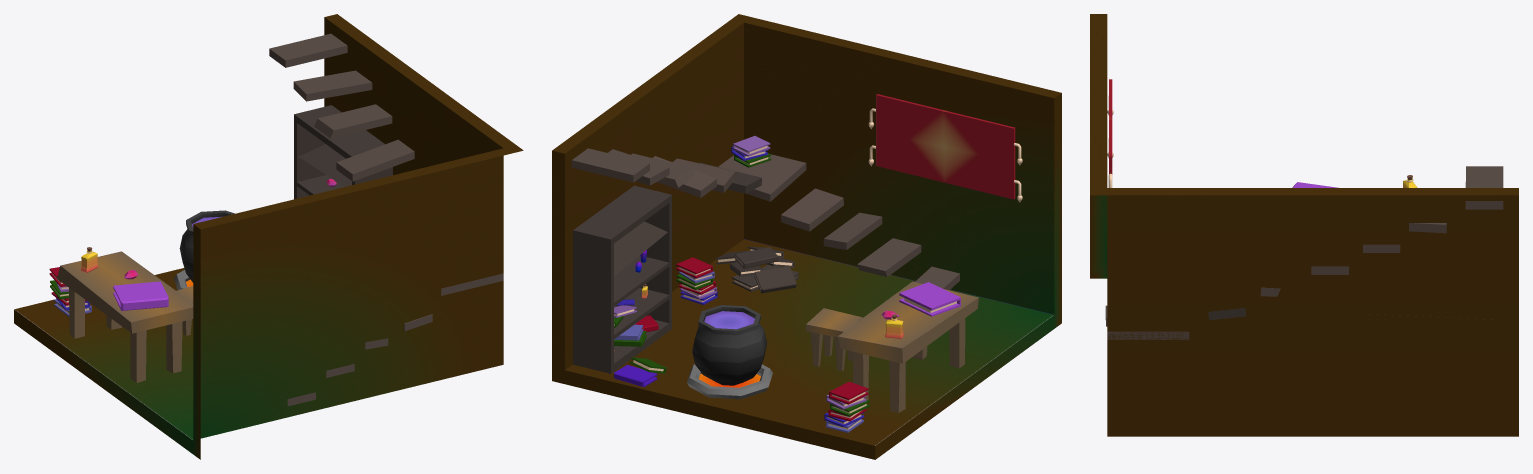
File: witch_room_final.fbx
3 views of the same model, side by side, from view 1: azimuth 30°, elevation 25°; view 2: azimuth 150°, elevation 25°; view 3: azimuth 270°, elevation 25° (orthographic). The views are drawn at different scales.
Visible parts, largest first — view 1: walls, floor, table, bookcase, step8, step11, step9, step10, book, cauldron; view 2: floor, bookcase, walls, carpet, table, cauldron, step5, stool, step11, step4, step2, book (+14 smaller); view 3: walls, step11, step5, carpet.
Part boxes in pixels (x1,y1,x2,y2): walls: (193, 14, 523, 459); floor: (14, 17, 502, 453); table: (57, 251, 193, 382); bookcase: (294, 105, 392, 199); step8: (336, 139, 414, 181); step11: (269, 33, 347, 67); step9: (314, 104, 392, 138); step10: (293, 70, 372, 101); book: (113, 281, 168, 310); cauldron: (179, 210, 234, 282); floor: (565, 22, 1054, 459); bookcase: (573, 185, 671, 373); walls: (552, 14, 1061, 459); carpet: (868, 94, 1022, 202); table: (838, 281, 978, 412); cauldron: (692, 305, 766, 385); step5: (718, 154, 806, 201); stool: (806, 308, 862, 371); step11: (571, 148, 649, 182); step4: (781, 188, 843, 231); step2: (857, 238, 921, 276); book: (899, 282, 960, 316); walls: (1090, 14, 1518, 436); step11: (1465, 166, 1503, 209); step5: (1107, 331, 1189, 339); carpet: (1107, 79, 1113, 187).
Bounding box in the file's own units: 1250 × 852 × 1250.
1 material, 1 textured.
